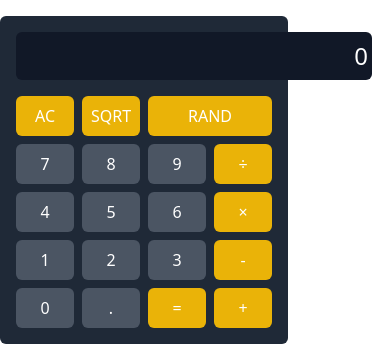
Calculator › should clear display and operators when "AC" button is clicked
Click the button "7".
click(45, 164)  # box [16,144,74,184]
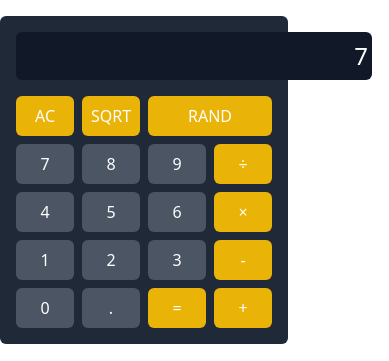
Click the button "AC".
click(45, 116)  # box [16,96,74,136]
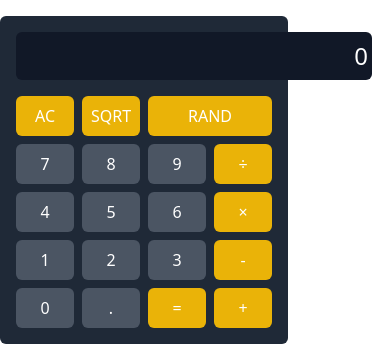
Result: the field showing "0" is shown at [16,32,372,80]
